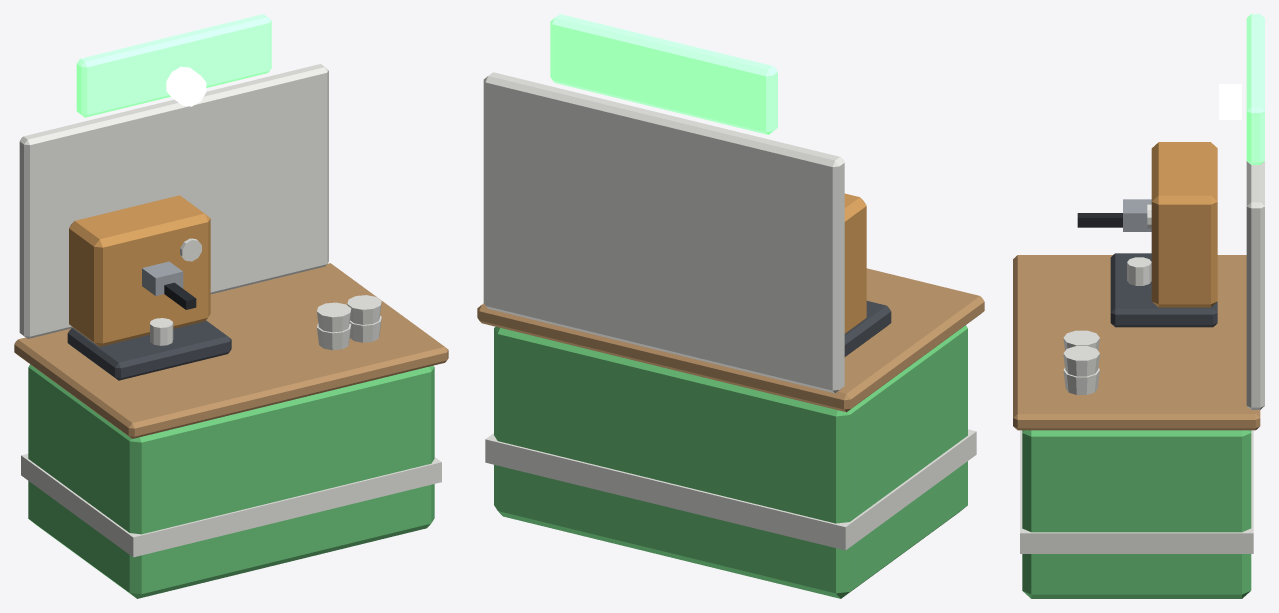
Rendered from coffee_p2_4.glb.
The picture shows the model from 3 angles, left to right: view 1: azimuth 30°, elevation 25°; view 2: azimuth 150°, elevation 25°; view 3: azimuth 270°, elevation 25°; orthographic projection. The views are drawn at different scales.
Parts seen in each view (by area): view 1: coffee_p2_4_mesh; view 2: coffee_p2_4_mesh; view 3: coffee_p2_4_mesh.
Boxes of the visible parts, <box> form: coffee_p2_4_mesh: <box>14,14,448,598</box>; coffee_p2_4_mesh: <box>477,14,984,598</box>; coffee_p2_4_mesh: <box>1013,14,1264,598</box>.
Bounding box in the file's own units: 0.84 × 1.12 × 0.55.
